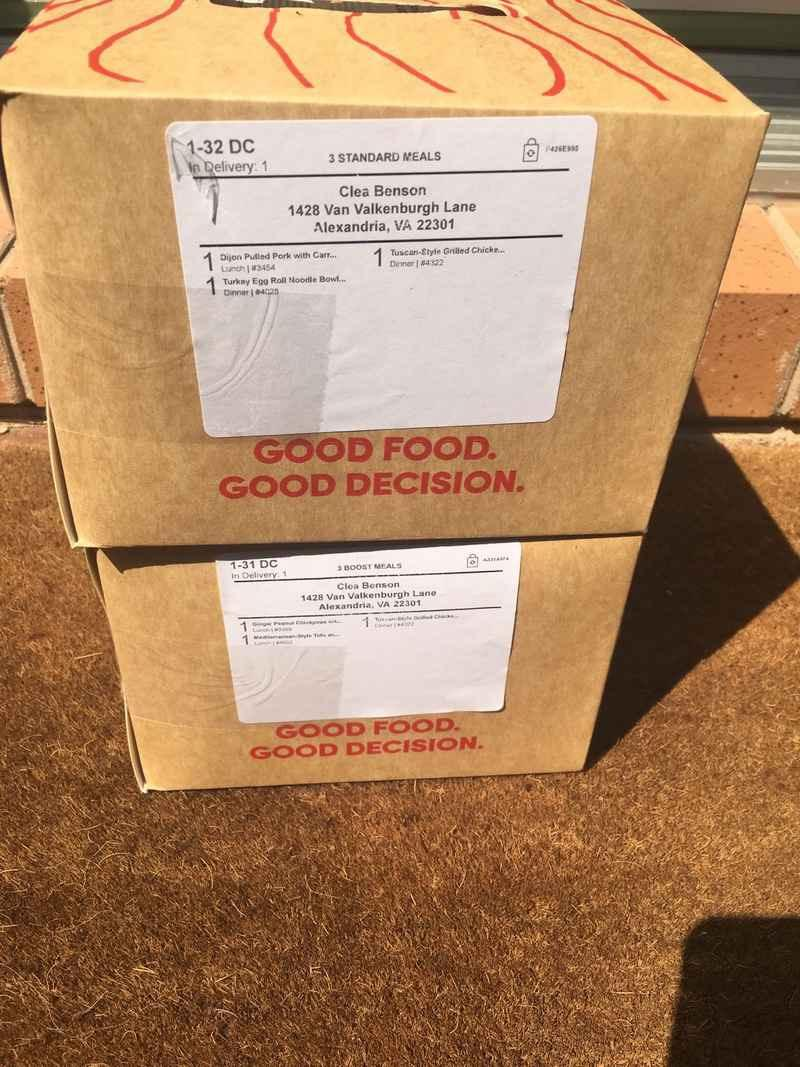package: (0, 0, 781, 546), (91, 539, 637, 796)
